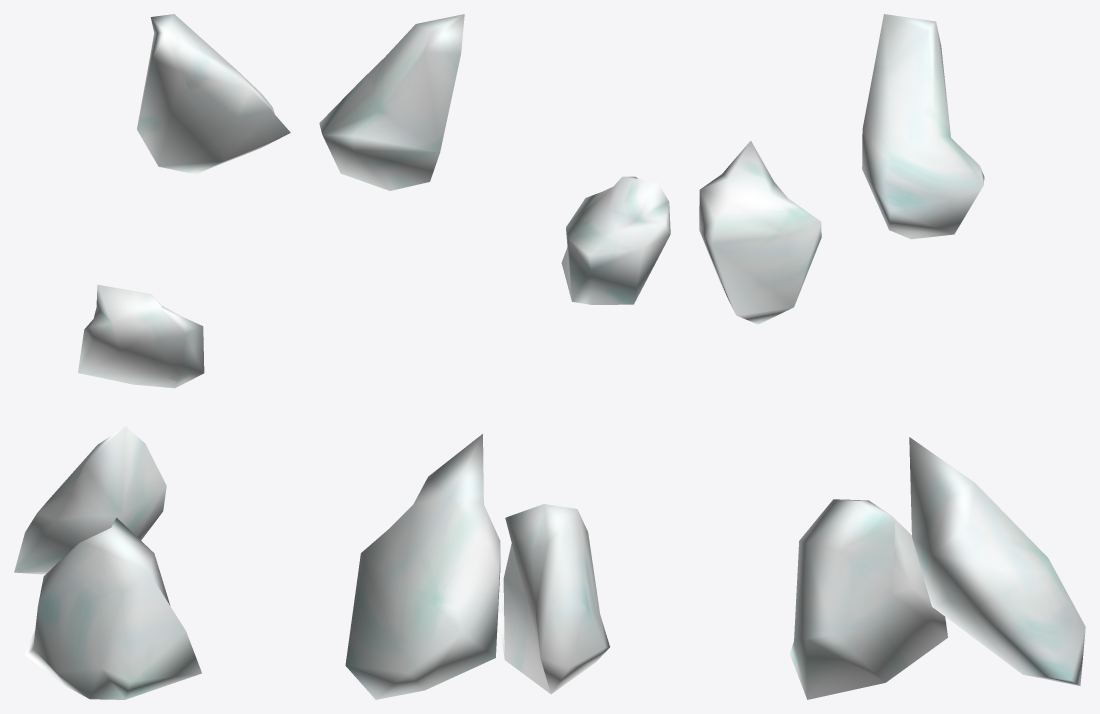
Rendered from tree_snow.fbx.
The picture shows the model from 3 angles, left to right: view 1: azimuth 30°, elevation 25°; view 2: azimuth 150°, elevation 25°; view 3: azimuth 270°, elevation 25°; orthographic projection. The views are drawn at different scales.
Visible parts, largest first — view 1: snow2, snow3, snow1, snow4; view 2: snow1, snow3, snow2, snow4; view 3: snow1, snow2, snow3, snow4.
Boxes of the visible parts, x1=… form: snow2: x1=24, y1=517, x2=201, y2=699; snow3: x1=137, y1=14, x2=290, y2=174; snow1: x1=14, y1=426, x2=166, y2=574; snow4: x1=78, y1=284, x2=204, y2=388; snow1: x1=345, y1=434, x2=500, y2=699; snow3: x1=319, y1=14, x2=464, y2=190; snow2: x1=498, y1=504, x2=609, y2=694; snow4: x1=561, y1=176, x2=670, y2=304; snow1: x1=909, y1=437, x2=1085, y2=685; snow2: x1=789, y1=499, x2=947, y2=699; snow3: x1=862, y1=14, x2=984, y2=239; snow4: x1=699, y1=141, x2=821, y2=324.
Bounding box in the file's own units: 4.5 × 10.11 × 5.13.
1 material, 1 textured.
